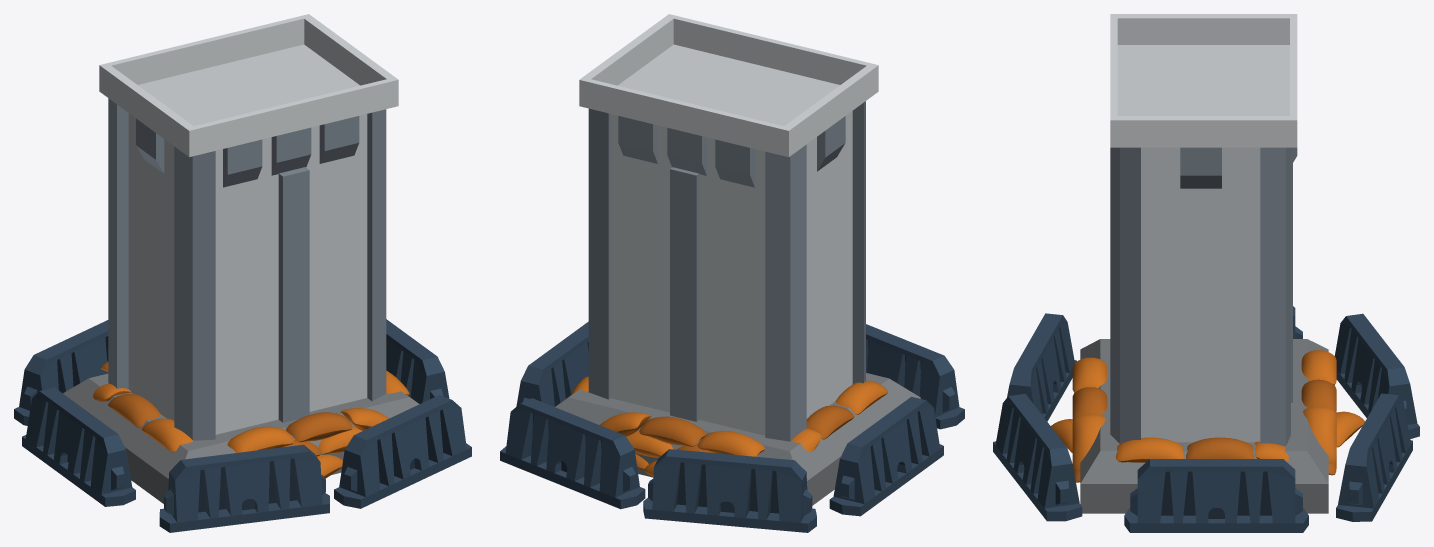
File: Towers.fbx
The picture shows the model from 3 angles, left to right: view 1: azimuth 30°, elevation 25°; view 2: azimuth 150°, elevation 25°; view 3: azimuth 270°, elevation 25°; orthographic projection. The views are drawn at different scales.
Visible parts, largest first — view 1: Tower.003, Tower.002; view 2: Tower.003, Tower.002; view 3: Tower.003, Tower.002.
Part boxes in pixels (box(x1,y1,x2,y2)): Tower.003: box(14, 14, 471, 532); Tower.002: box(93, 361, 409, 478); Tower.003: box(500, 14, 964, 532); Tower.002: box(570, 376, 887, 476); Tower.003: box(993, 14, 1419, 532); Tower.002: box(1051, 350, 1364, 482).
Bounding box in the file's own units: 9.5 × 9.46 × 9.65.
